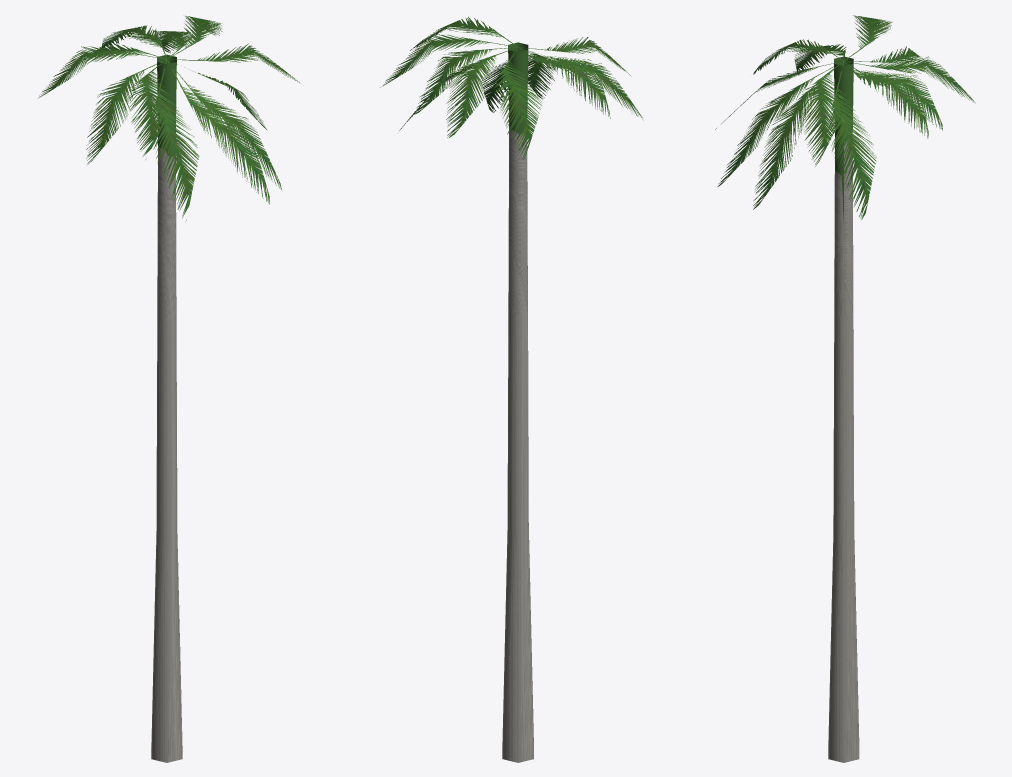
File: RoyalPalm_LOD1.fbx
3 renders of one model, left to right at view 1: azimuth 30°, elevation 25°; view 2: azimuth 150°, elevation 25°; view 3: azimuth 270°, elevation 25°, orthographic.
Visible parts, largest first — view 1: RoyalPalm_LOD1; view 2: RoyalPalm_LOD1; view 3: RoyalPalm_LOD1.
Boxes of the visible parts, left/top/right/bottom form: RoyalPalm_LOD1: left=38, top=15, right=299, bottom=762; RoyalPalm_LOD1: left=380, top=16, right=643, bottom=762; RoyalPalm_LOD1: left=715, top=15, right=975, bottom=762.
Size of the model in its own units: 8.13 by 20.65 by 8.16.
Materials: 1 (1 with a texture image).
